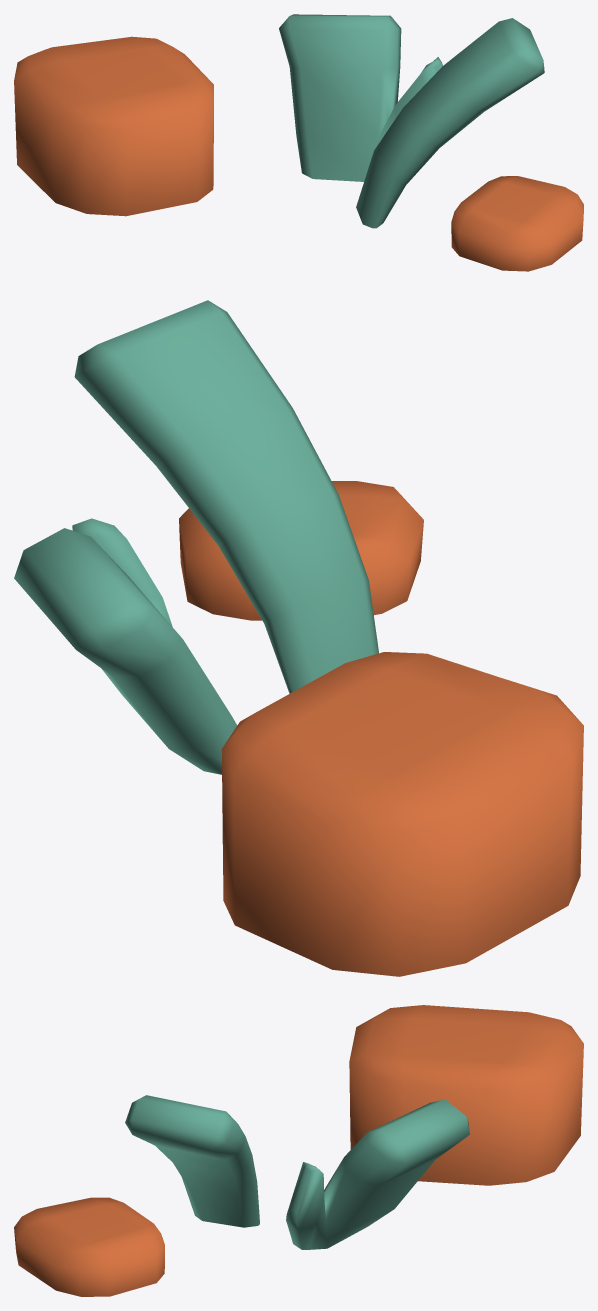
File: blue_grass_small.obj
3 views of the same model, one above another, from view 1: azimuth 30°, elevation 25°; view 2: azimuth 150°, elevation 25°; view 3: azimuth 270°, elevation 25° (orthographic). The views are drawn at different scales.
Visible parts, largest first — view 1: blue_grass_small; view 2: blue_grass_small; view 3: blue_grass_small.
Part boxes in pixels (x1,y1,x2,y2): blue_grass_small: [14, 14, 583, 271]; blue_grass_small: [14, 300, 583, 976]; blue_grass_small: [14, 1005, 583, 1296].
Size of the model in its own units: 1.26 by 0.5302 by 1.5.
